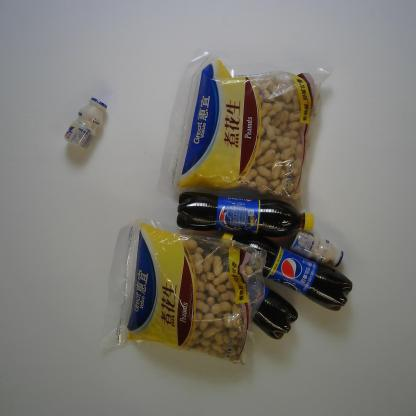Dried Food: (158, 46, 332, 214), (99, 216, 268, 374)
Drink: (172, 234, 299, 341), (218, 232, 353, 312), (176, 190, 316, 238)
Milk: (63, 95, 109, 152), (288, 229, 345, 268)
